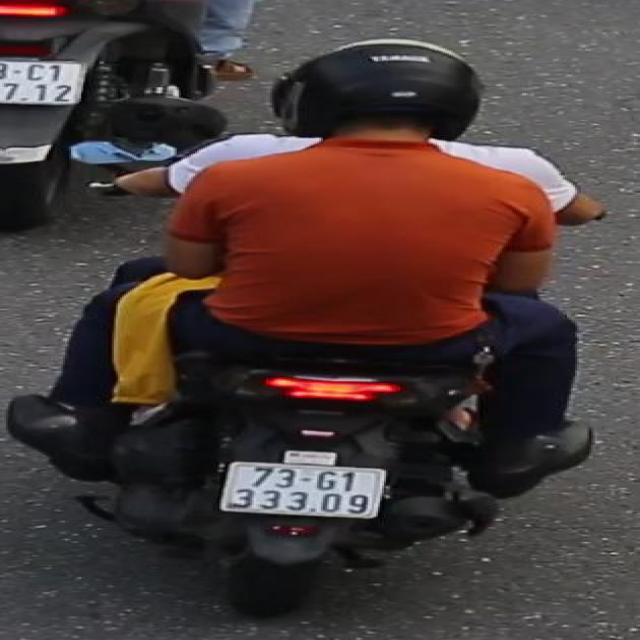LP: (214, 457, 391, 523), (0, 54, 87, 109)
helmet: (262, 30, 490, 153)
